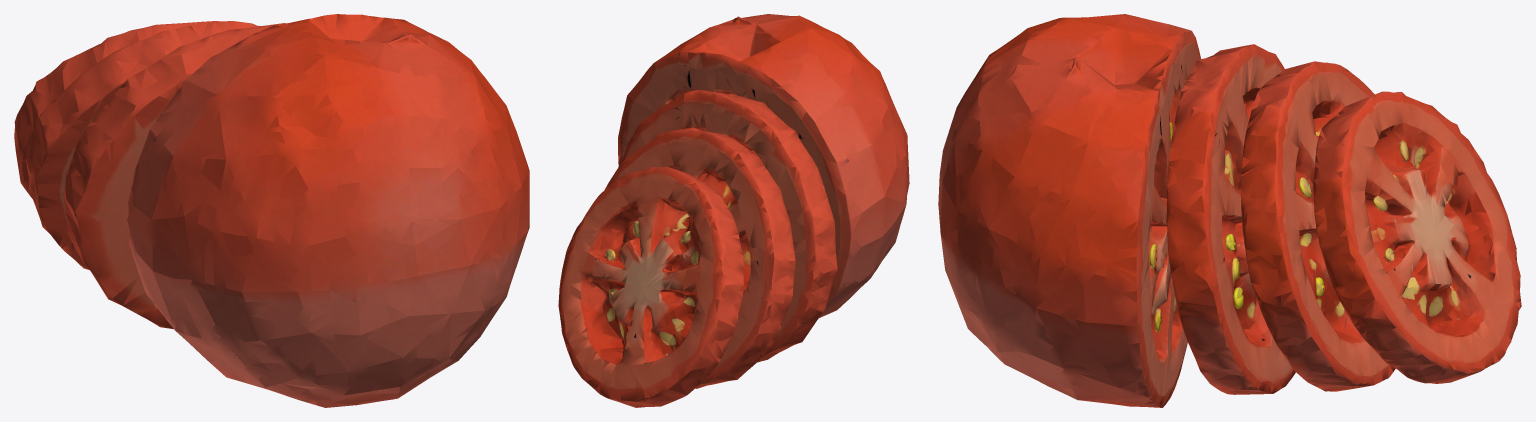
The model's file is new_tomato_3.fbx.
The picture shows the model from 3 angles, left to right: view 1: azimuth 30°, elevation 25°; view 2: azimuth 150°, elevation 25°; view 3: azimuth 270°, elevation 25°; orthographic projection. The views are drawn at different scales.
Visible parts, largest first — view 1: tripo_node_160e07e1; view 2: tripo_node_160e07e1; view 3: tripo_node_160e07e1.
Boxes of the visible parts, x1,y1,x2,y2 form: tripo_node_160e07e1: (14,14,529,407); tripo_node_160e07e1: (558,14,909,407); tripo_node_160e07e1: (938,14,1521,407).
Size of the model in its own units: 67.56 by 65.25 by 98.02.
1 material, 1 textured.
